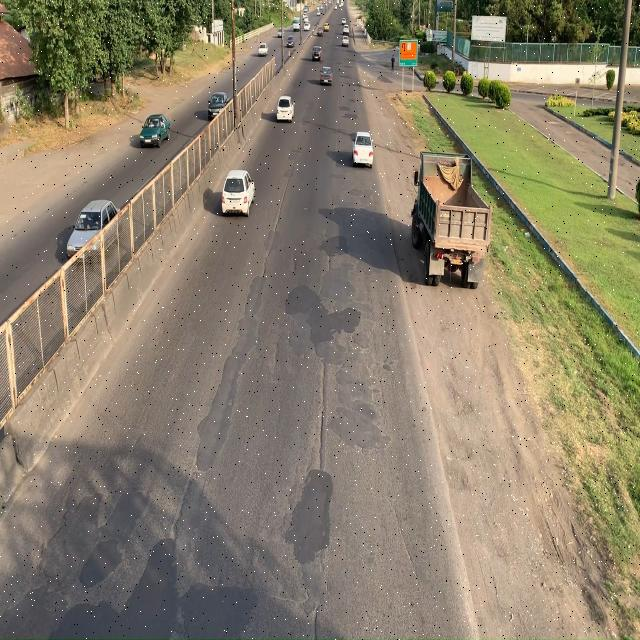Truck: (411, 150, 494, 294)
cars: (65, 198, 123, 262), (221, 167, 255, 215), (139, 109, 171, 148), (352, 130, 374, 167), (274, 93, 294, 122)
